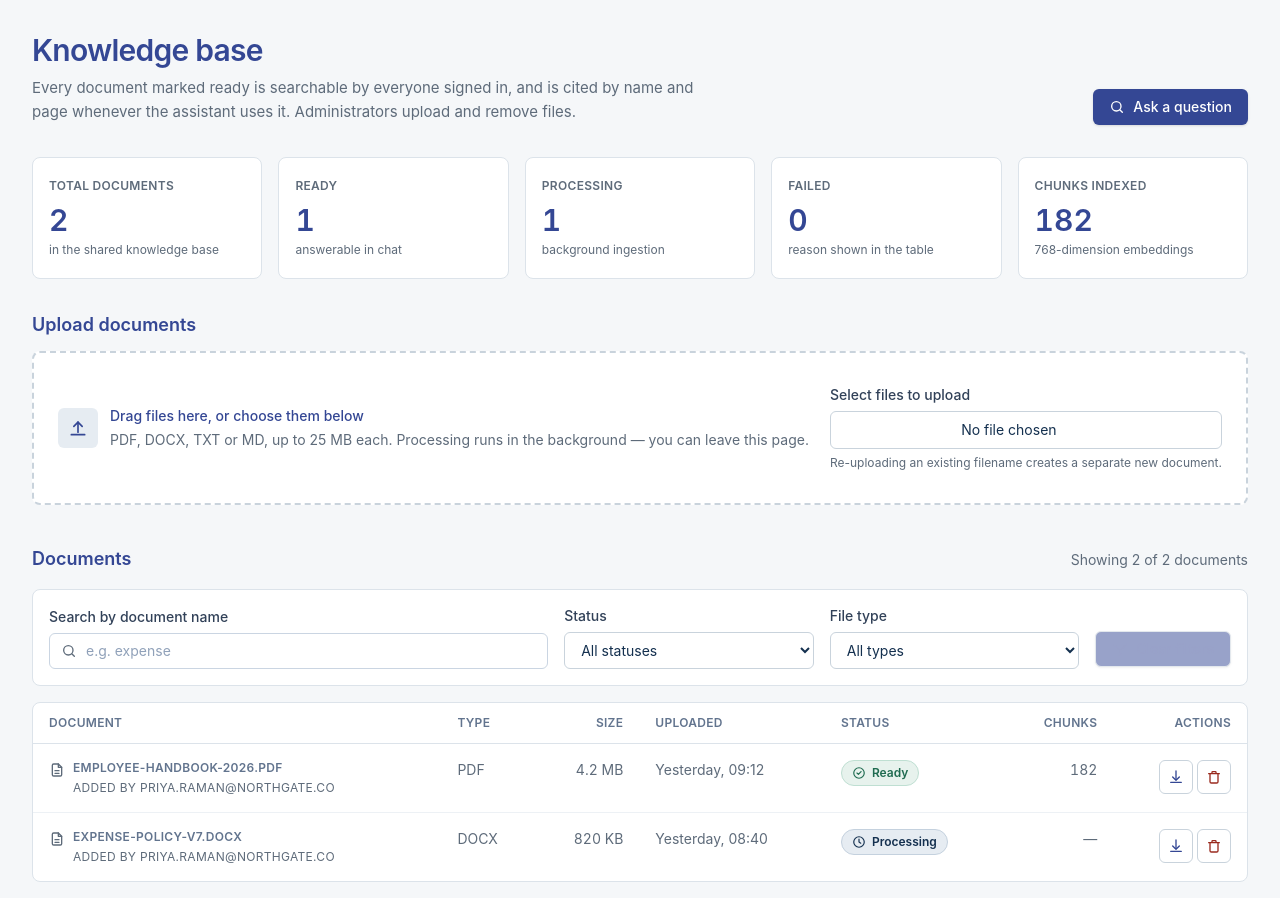
it: KnowledgeBase screen › AC-047: typing part of a name filters the table case-insensitively
The image size is (1280, 898).
Expected: the text "Employee-Handbook-2026.pdf" is shown, x1=73 y1=760 x2=283 y2=775
In the search field labelled "Search by document name": (299, 651) x1=49 y1=633 x2=548 y2=669, type "EMPLOYEE-handbook"
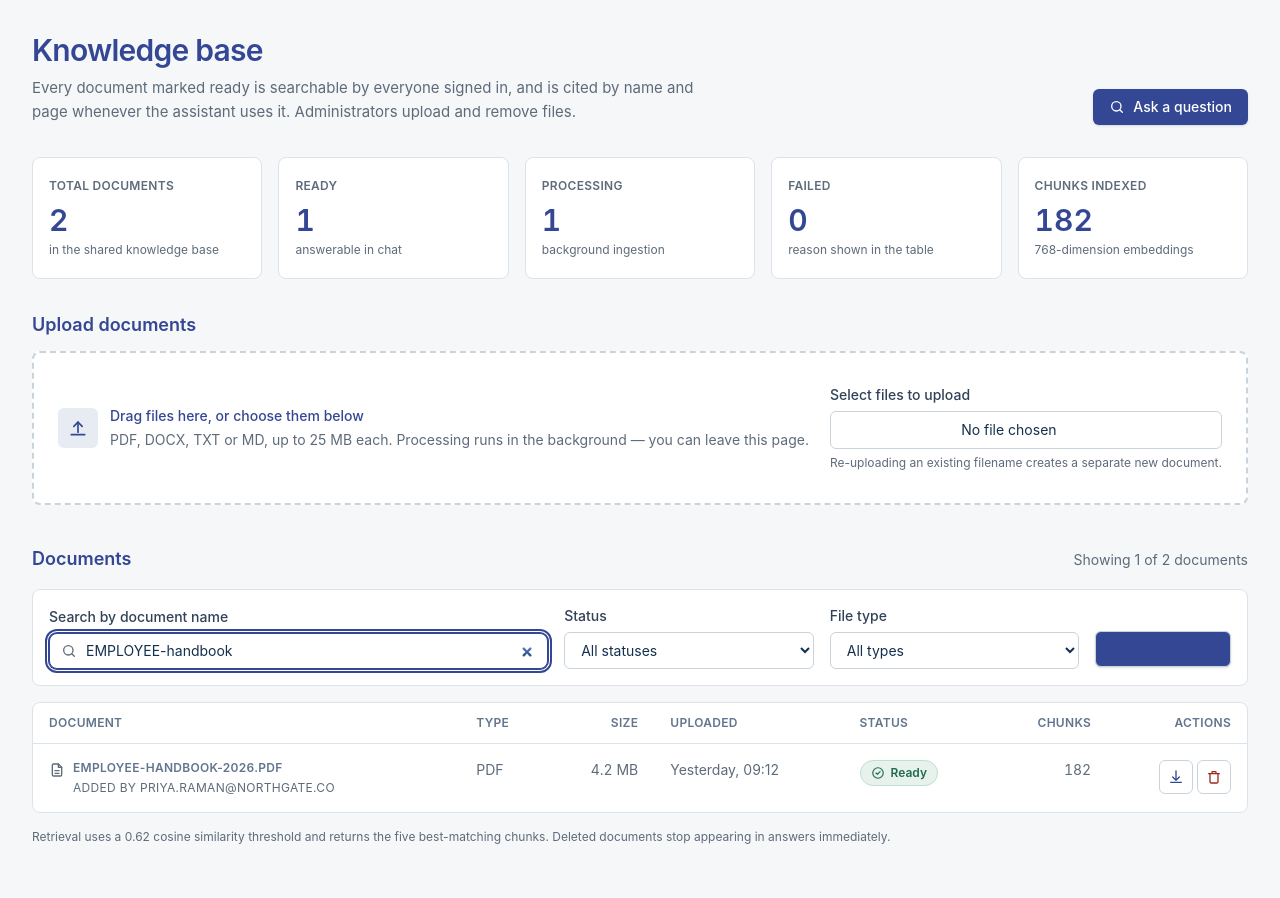
Expected: the text "Employee-Handbook-2026.pdf" is shown, x1=73 y1=760 x2=283 y2=775
Expected: the text "Expense-Policy-v7.docx" is gone
